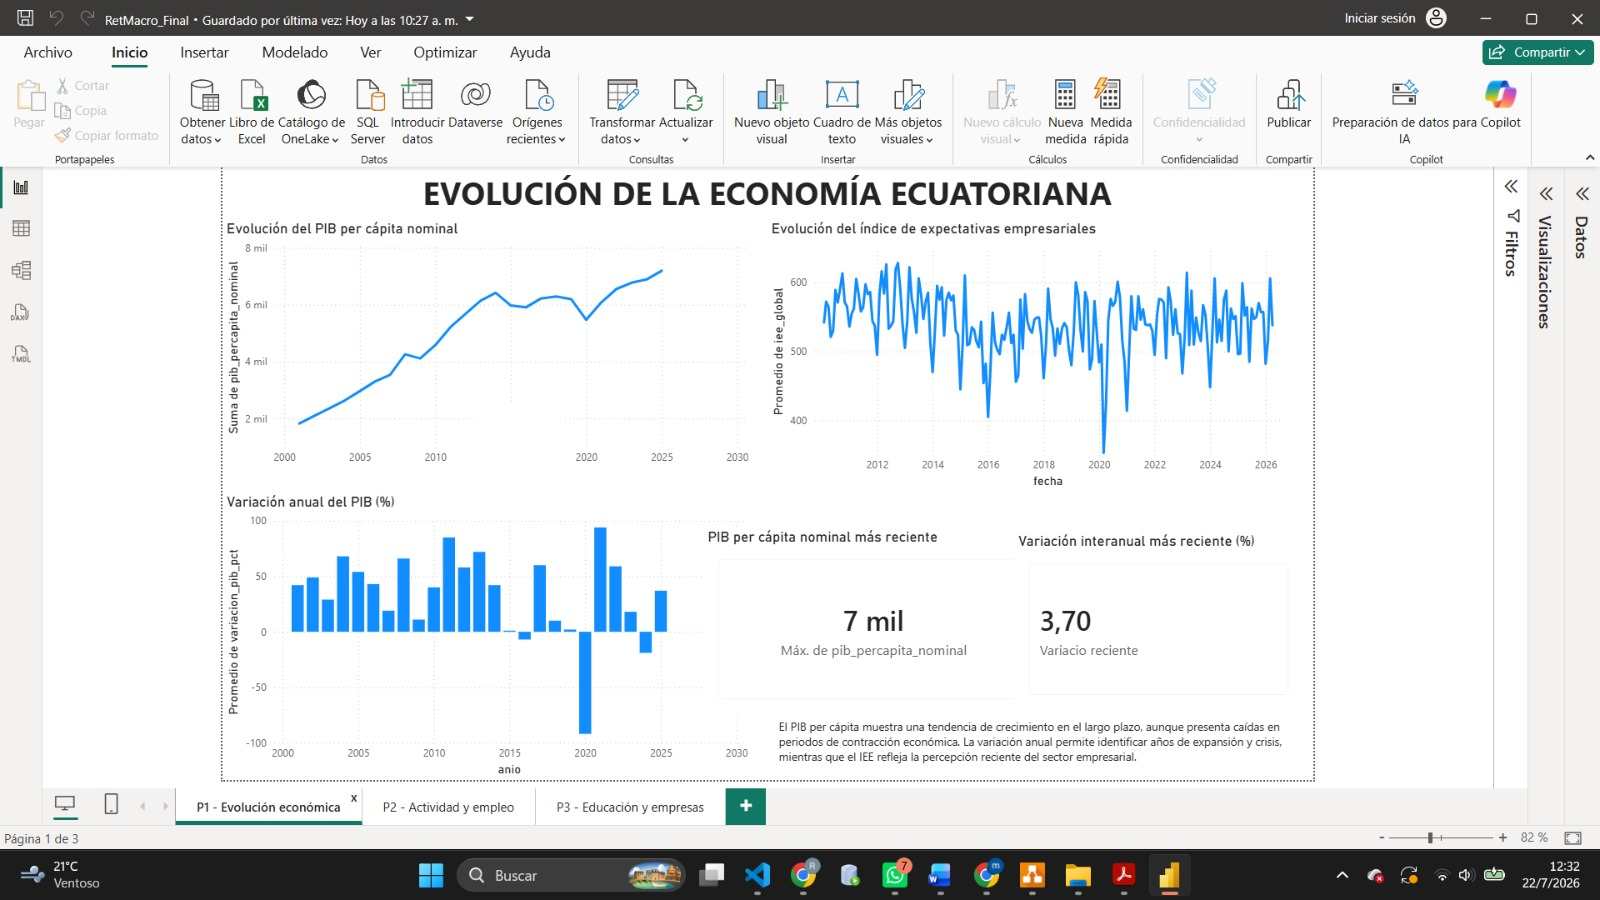

Layout of this report page (visuals, bound fields, positions):
{"tool":"powerbi","page":{"name":"P1 - Evolución económica","canvas":[1280,720],"ordinal":0},"visuals":[{"type":"textbox","box":[9.6,0,1259.7,63.1],"z":0},{"type":"lineChart","title":"Evolución del PIB per cápita nominal","fields":{"Y":["Sum(fact_macro_anual.pib_percapita_nominal)"],"Category":["fact_macro_anual.anio"]},"box":[0,67.3,622.4,310.6],"z":1000},{"type":"clusteredColumnChart","title":"Variación anual del PIB (%)","fields":{"Category":["fact_macro_anual.anio"],"Y":["Avg(fact_macro_anual.variacion_pib_pct)"]},"box":[0,383.3,622.7,336.2],"z":2000},{"type":"lineChart","title":"Evolución del índice de expectativas empresariales","fields":{"Y":["Avg(fact_iee.iee_global)"],"Category":["fact_iee.fecha"]},"box":[668.9,67.3,611.4,310.6],"z":3000},{"type":"cardVisual","title":"PIB per cápita nominal más reciente","fields":{"Data":["Max(fact_macro_anual.pib_percapita_nominal)"]},"box":[668.4,395.4,287.8,207.1],"z":4000},{"type":"cardVisual","title":"Variación interanual más reciente (%)","fields":{"Data":["fact_macro_anual.Variacion reciente texto"]},"box":[980.4,395.4,289.8,209.1],"z":5000},{"type":"textbox","box":[668.4,617.3,601.1,103.6],"z":6000}]}

Visuals, with their boxes on the page's 1280x720 design canvas (x1, y1, x2, y2). These are canvas units, not pixel positions in the 1600x900 screenshot, which may show the page scaled, cropped or inside an application window:
textbox: select_region(10, 0, 1269, 63)
"Evolución del PIB per cápita nominal" lineChart: select_region(0, 67, 622, 378)
"Variación anual del PIB (%)" clusteredColumnChart: select_region(0, 383, 623, 720)
"Evolución del índice de expectativas empresariales" lineChart: select_region(669, 67, 1280, 378)
"PIB per cápita nominal más reciente" cardVisual: select_region(668, 395, 956, 602)
"Variación interanual más reciente (%)" cardVisual: select_region(980, 395, 1270, 604)
textbox: select_region(668, 617, 1270, 721)
